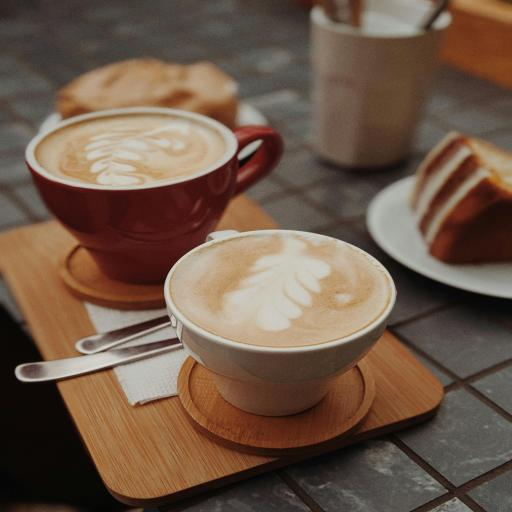phone: (26, 107, 284, 285)
